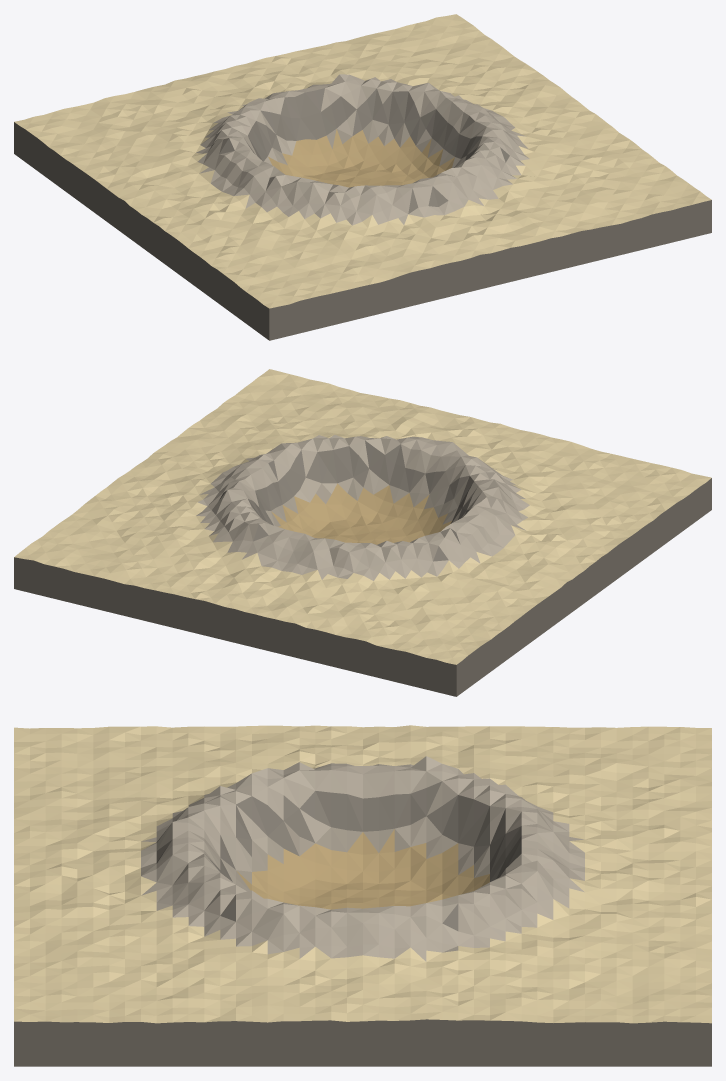
File: TERRAIN_07.obj
The picture shows the model from 3 angles, top to bottom: view 1: azimuth 30°, elevation 25°; view 2: azimuth 150°, elevation 25°; view 3: azimuth 270°, elevation 25°; orthographic projection. The views are drawn at different scales.
Parts seen in each view (by area): view 1: TERRAIN_07; view 2: TERRAIN_07; view 3: TERRAIN_07.
Part boxes in pixels (x1,y1,x2,y2): TERRAIN_07: [14, 14, 711, 340]; TERRAIN_07: [14, 369, 711, 696]; TERRAIN_07: [14, 725, 711, 1066].
Bounding box in the file's own units: 76 × 10.75 × 76.
